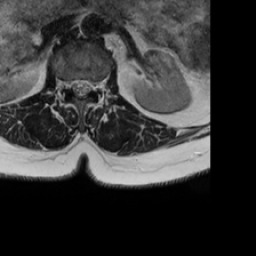CCS_normal: (77, 71, 84, 106)
LFS_normal: (92, 72, 100, 98)
LLS_normal: (84, 71, 92, 100)
RFS_normal: (61, 72, 69, 95)
RLS_normal: (69, 71, 77, 99)
